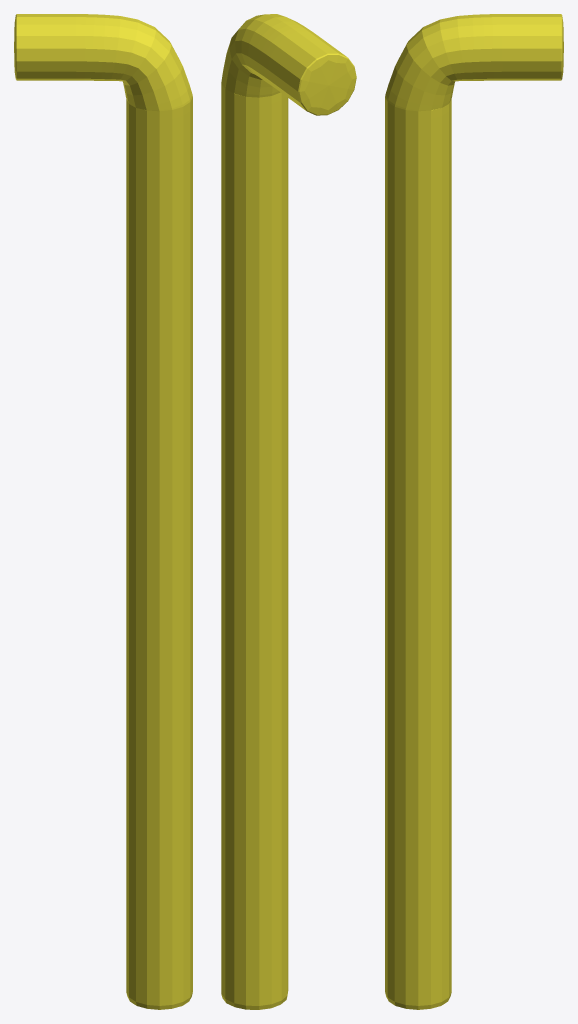
File: Wire90v2.fbx
3 views of the same model, side by side, from view 1: azimuth 90°, elevation 25°; view 2: azimuth 210°, elevation 25°; view 3: azimuth 270°, elevation 25° (orthographic).
Visible parts, largest first — view 1: Wire90v2; view 2: Wire90v2; view 3: Wire90v2.
Part boxes in pixels (<box>): Wire90v2: <box>14,14,192,1009</box>; Wire90v2: <box>221,14,356,1009</box>; Wire90v2: <box>385,14,563,1009</box>.
Size of the model in its own units: 0.5775 by 9.36 by 1.55.
